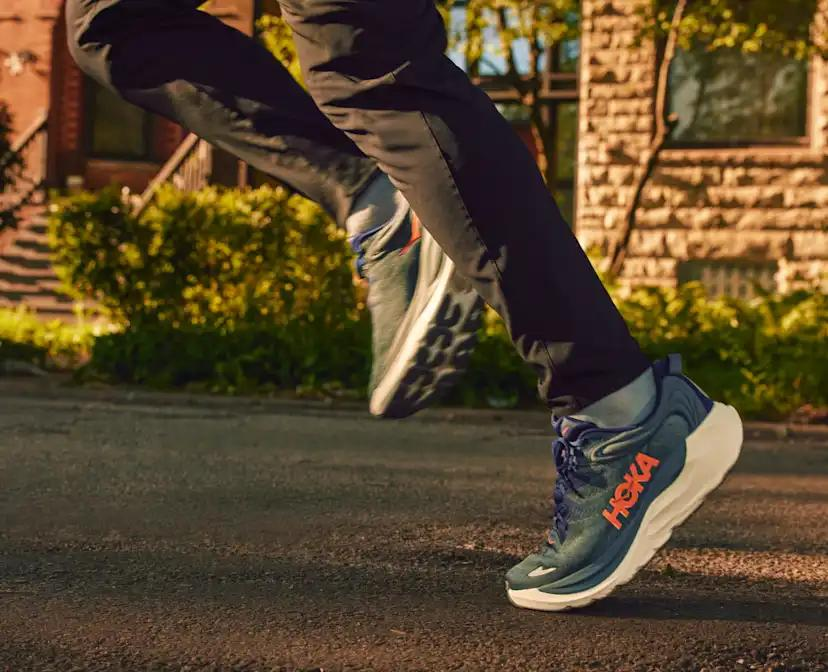hoka logo: (599, 452, 660, 529)
